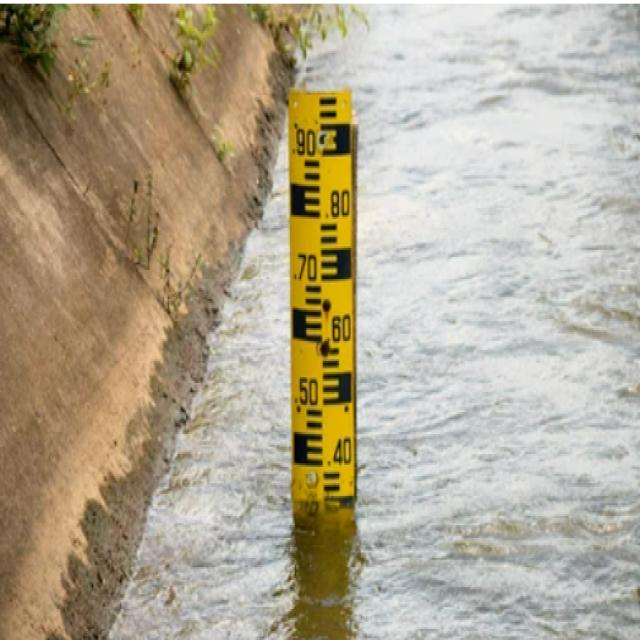ruler: (276, 66, 363, 534)
value: (289, 370, 323, 410), (286, 121, 320, 160), (289, 246, 321, 286), (322, 308, 353, 348), (320, 187, 353, 223), (323, 434, 354, 472)
